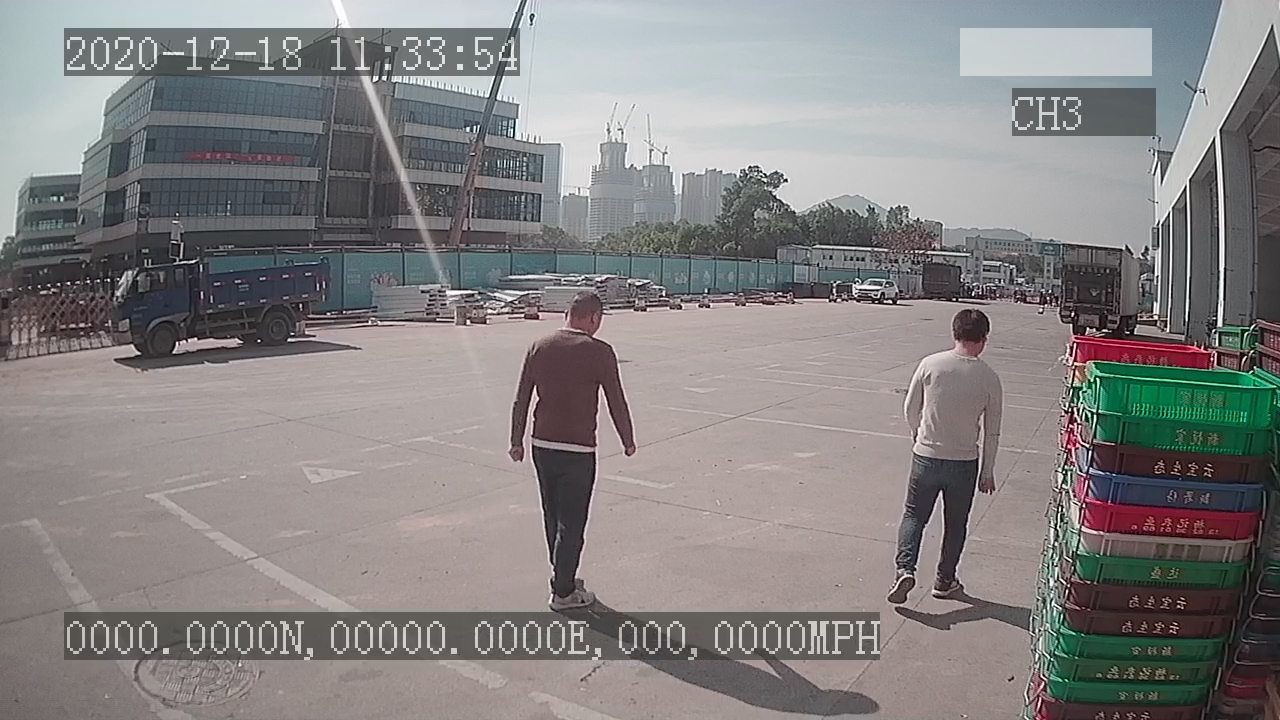person: (507, 287, 638, 612), (882, 306, 1002, 606)
